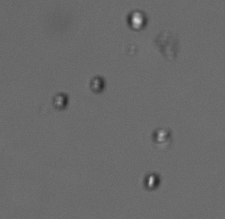Dead Cell: (150, 127, 171, 145), (50, 91, 68, 109), (89, 75, 104, 93)
Living Cell: (125, 10, 147, 31), (141, 172, 161, 191)
